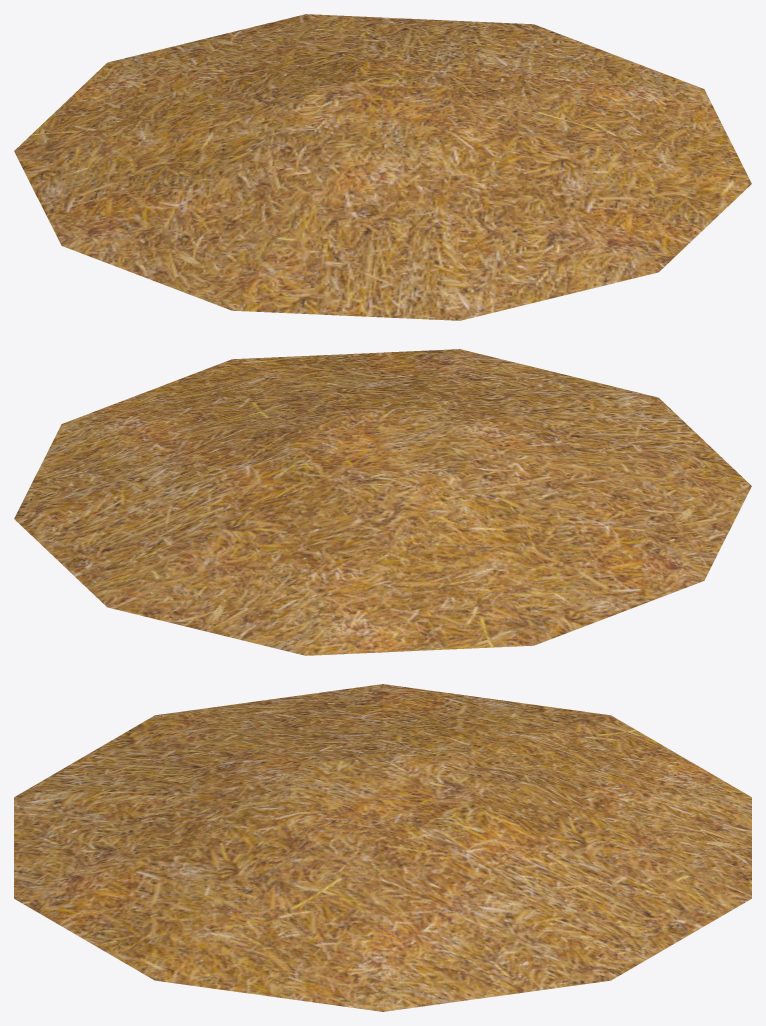
Rendered from HayPile1_LP.glb.
3 views of the same model, one above another, from view 1: azimuth 30°, elevation 25°; view 2: azimuth 150°, elevation 25°; view 3: azimuth 270°, elevation 25° (orthographic). The views are drawn at different scales.
Parts seen in each view (by area): view 1: HayPile1_LP; view 2: HayPile1_LP; view 3: HayPile1_LP.
Part boxes in pixels (box(x1,y1,x2,y2)): HayPile1_LP: box(14, 14, 751, 320); HayPile1_LP: box(14, 349, 751, 655); HayPile1_LP: box(14, 684, 751, 1011).
Bounding box in the file's own units: 0.9027 × 0.0681 × 0.8585.
1 material, 1 textured.
